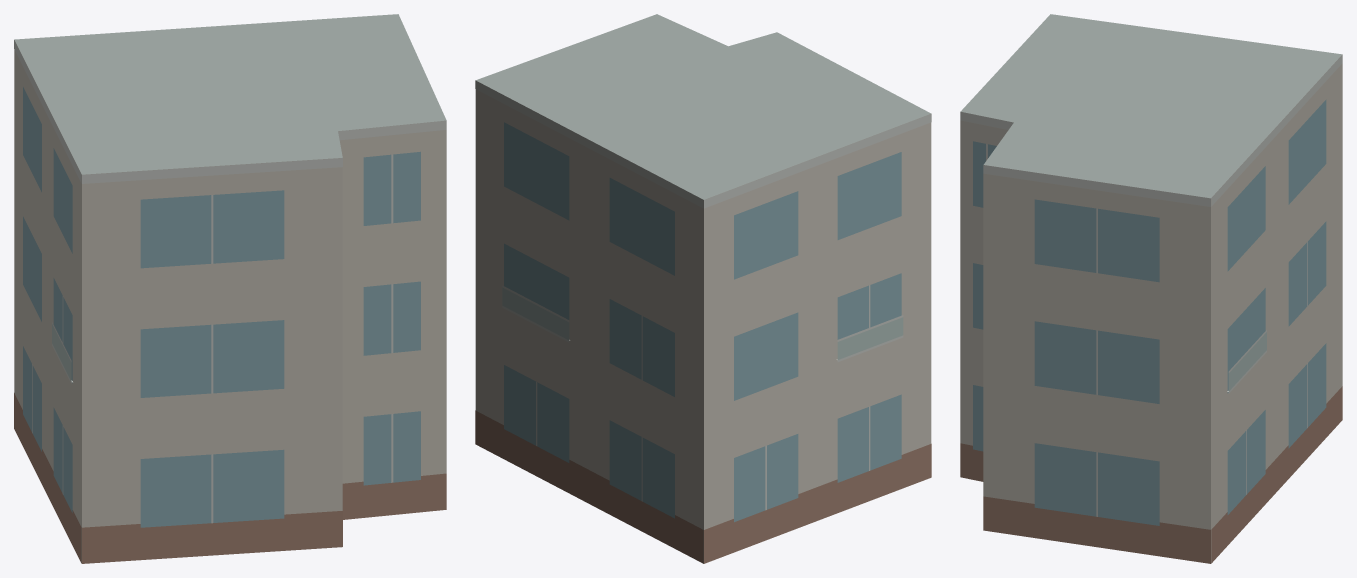
File: survey-upis-32491794.glb
3 views of the same model, side by side, from view 1: azimuth 30°, elevation 25°; view 2: azimuth 150°, elevation 25°; view 3: azimuth 270°, elevation 25° (orthographic). The views are drawn at different scales.
Visible parts, largest first — view 1: survey-upis-32491794.tmp; view 2: survey-upis-32491794.tmp; view 3: survey-upis-32491794.tmp.
Boxes of the visible parts, box(x1,y1,x2,y2) form: survey-upis-32491794.tmp: box(14, 14, 446, 563); survey-upis-32491794.tmp: box(475, 14, 931, 563); survey-upis-32491794.tmp: box(960, 14, 1342, 563).
Size of the model in its own units: 11.04 by 10.2 by 9.68.
